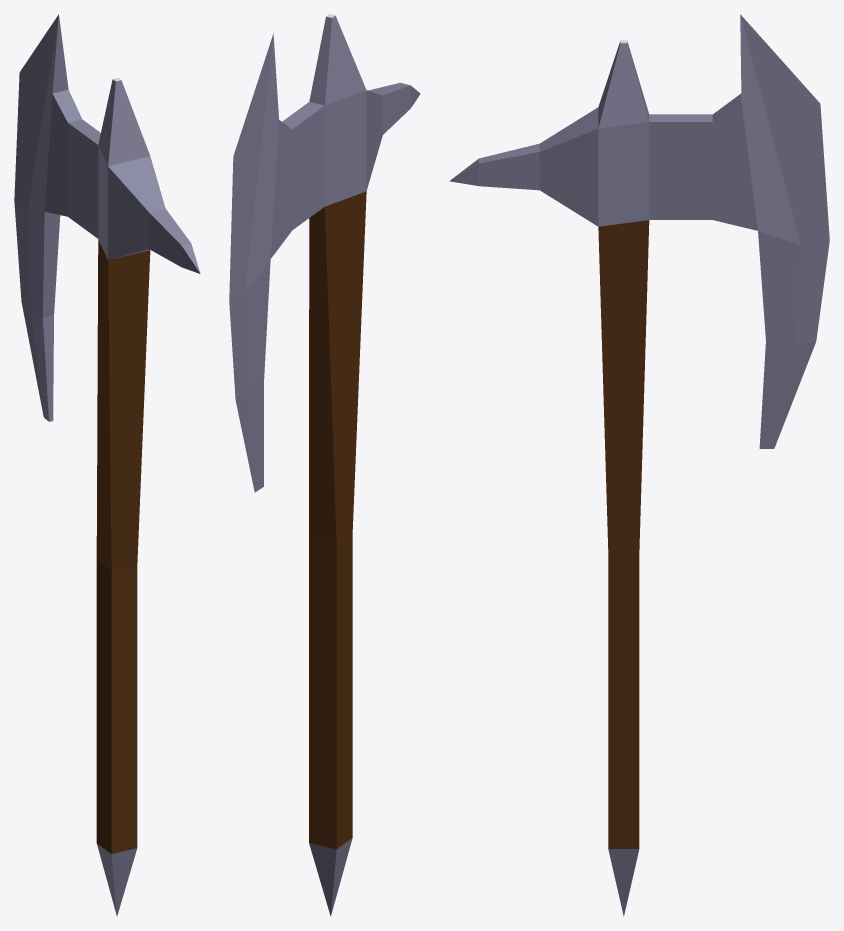
Rendered from axe.glb.
3 renders of one model, left to right at view 1: azimuth 30°, elevation 25°; view 2: azimuth 150°, elevation 25°; view 3: azimuth 270°, elevation 25°, orthographic. The views are drawn at different scales.
Parts seen in each view (by area): view 1: Axe; view 2: Axe; view 3: Axe.
Part boxes in pixels (x1,y1,x2,y2): Axe: [14, 14, 200, 916]; Axe: [229, 14, 420, 916]; Axe: [449, 14, 829, 916].
Size of the model in its own units: 0.3092 by 6.04 by 2.31.
